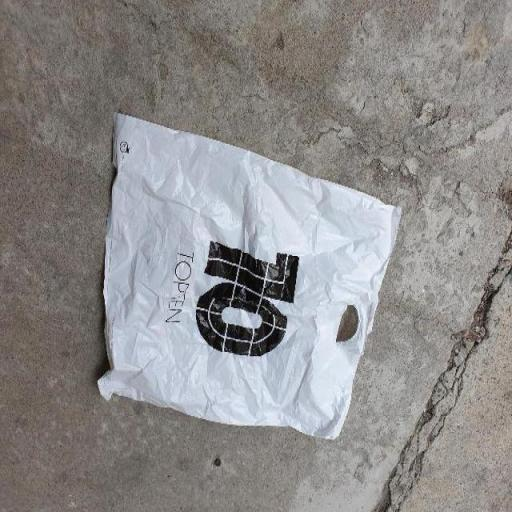plastic-bag: (98, 109, 403, 440)
